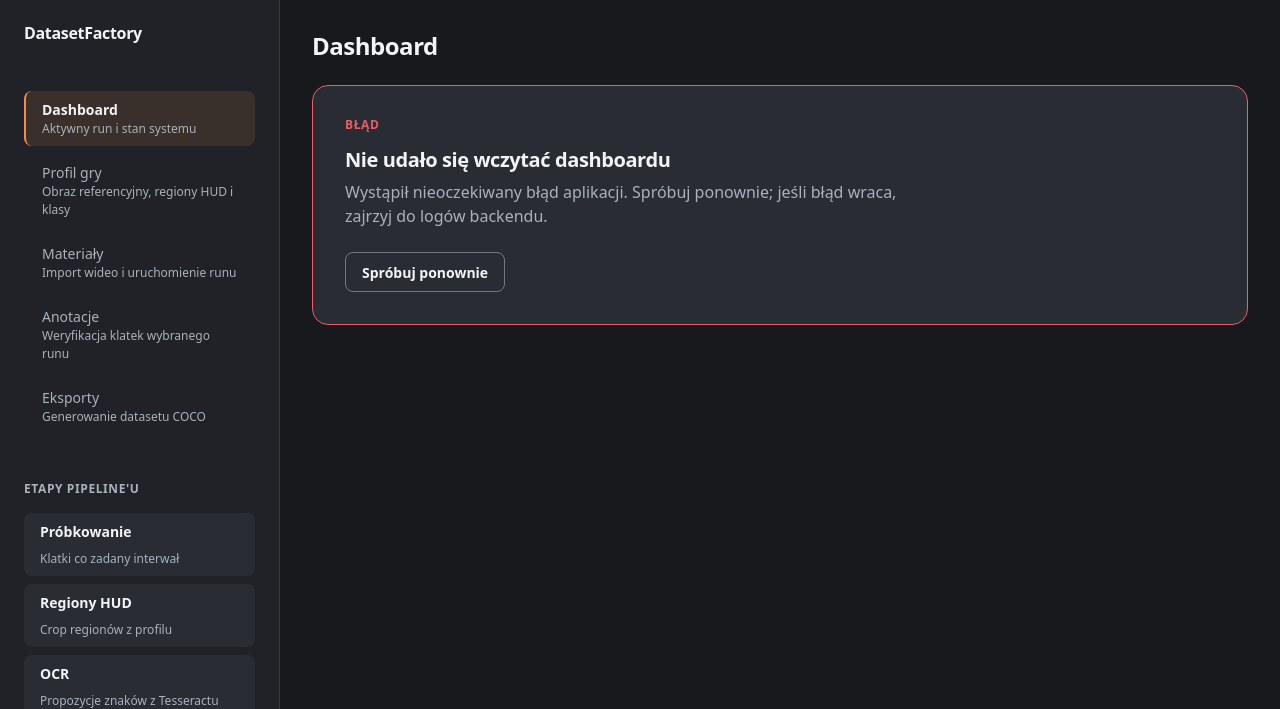
Test: dashboard view states › offers a retry when the request fails
Expected: the message shows "Nie udało się wczytać dashboardu", [345, 146, 670, 173]
Expected: the message shows "Wystąpił nieoczekiwany błąd aplikacji.", [345, 181, 896, 227]
Click the button "Spróbuj ponownie" at (425, 272), box [345, 252, 505, 292]
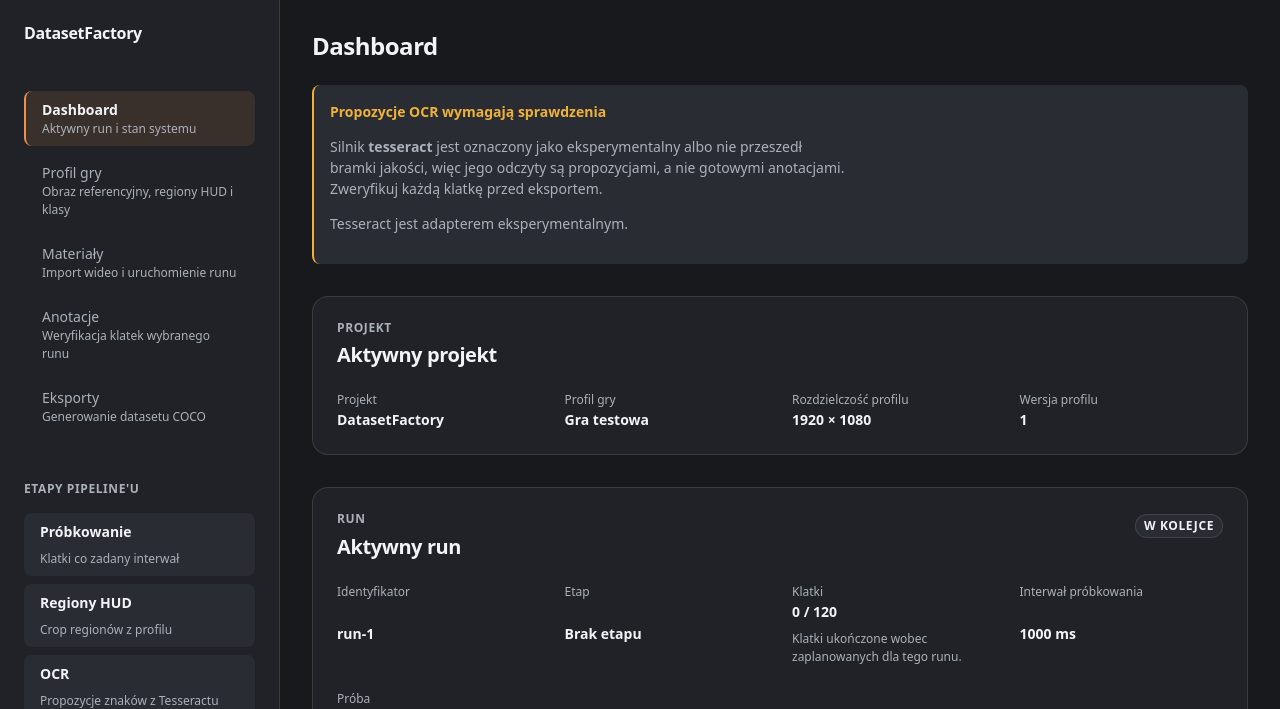
Now the element "Aktywny projekt" shows "DatasetFactory", box [337, 410, 444, 429]
